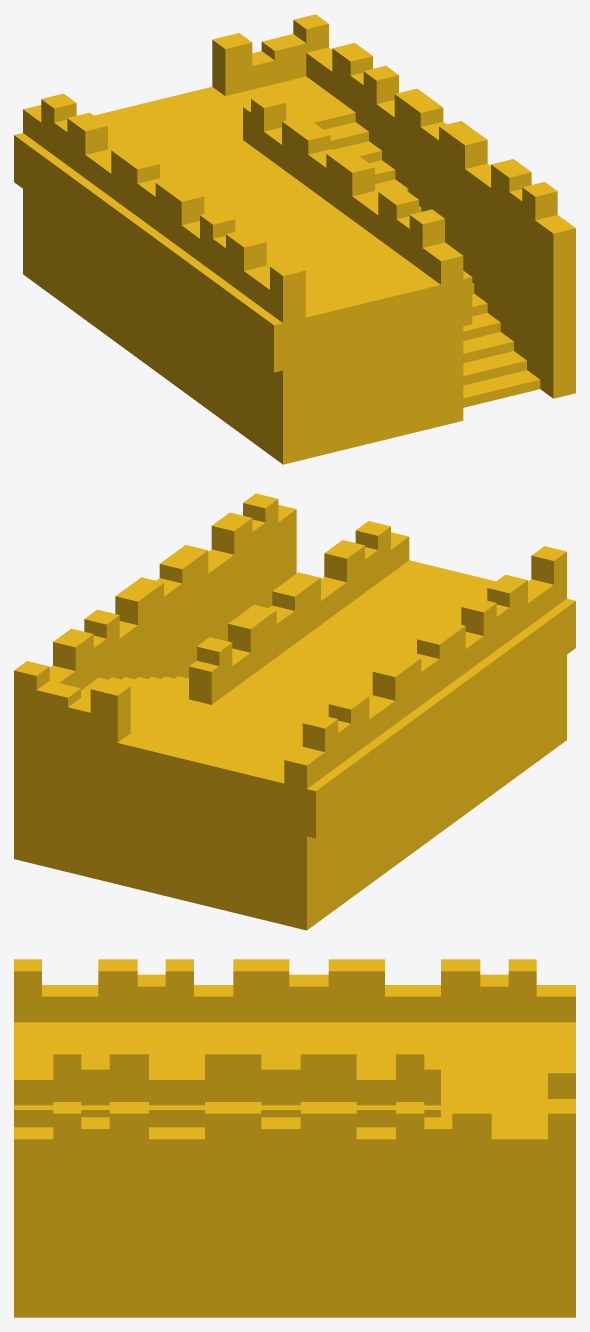
File: muralha remodelada p3 com escada.fbx
The picture shows the model from 3 angles, top to bottom: view 1: azimuth 30°, elevation 25°; view 2: azimuth 150°, elevation 25°; view 3: azimuth 270°, elevation 25°; orthographic projection. The views are drawn at different scales.
Parts seen in each view (by area): view 1: muralha remodelada p3 com escada; view 2: muralha remodelada p3 com escada; view 3: muralha remodelada p3 com escada.
Part boxes in pixels (x1=…): muralha remodelada p3 com escada: x1=14, y1=14, x2=575, y2=464; muralha remodelada p3 com escada: x1=14, y1=493, x2=575, y2=930; muralha remodelada p3 com escada: x1=14, y1=959, x2=575, y2=1317.
Bounding box in the file's own units: 670 × 400 × 1000.
